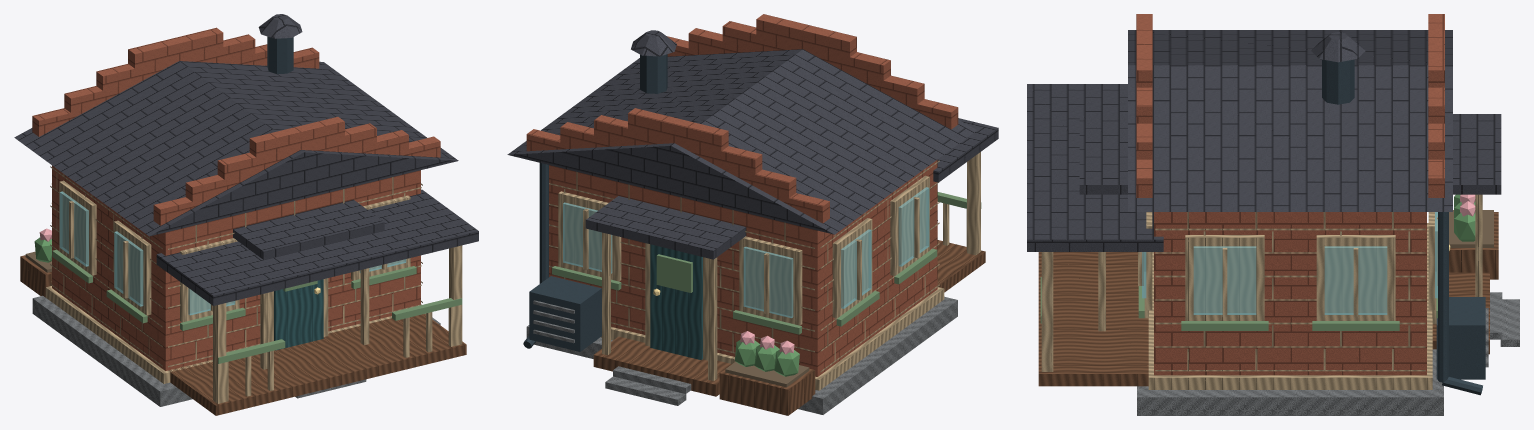
Rendered from house_townhouse_lv1_porch.glb.
3 views of the same model, side by side, from view 1: azimuth 30°, elevation 25°; view 2: azimuth 150°, elevation 25°; view 3: azimuth 270°, elevation 25° (orthographic). The views are drawn at different scales.
Visible parts, largest first — view 1: gable_roof, walls, porch_roof, porch_floor, front_porch_canopy, foundation, front_door, stepped_gable.002, left_window_frame.001, left_window_frame, stepped_gable.006, stepped_gable.007 (+25 smaller); view 2: gable_roof, walls, back_porch_canopy, foundation, back_window_frame, back_door, back_ac_unit, back_deck, back_window_frame.001, back_garden_bed, back_window_glass, stepped_gable.002 (+33 smaller); view 3: gable_roof, walls, porch_roof, porch_floor, foundation, right_window_frame, right_window_frame.001, floor_trim, right_window_glass, right_window_glass.001, back_porch_canopy, front_porch_canopy (+28 smaller).
Boxes of the visible parts, box(x1,y1,x2,y2) form: gable_roof: box(14, 61, 458, 236); walls: box(52, 165, 420, 370); porch_roof: box(156, 189, 478, 305); porch_floor: box(168, 314, 466, 415); front_porch_canopy: box(233, 199, 384, 259); foundation: box(32, 295, 440, 406); front_door: box(274, 279, 323, 350); stepped_gable.002: box(217, 123, 376, 179); left_window_frame.001: box(59, 180, 96, 275); left_window_frame: box(114, 220, 151, 315); stepped_gable.006: box(96, 34, 255, 91); stepped_gable.007: box(128, 27, 223, 70); gable_roof: box(507, 49, 977, 234); walls: box(549, 159, 937, 376); back_porch_canopy: box(585, 196, 746, 259); foundation: box(526, 296, 957, 414); back_window_frame: box(739, 236, 802, 325); back_door: box(650, 244, 702, 359); back_ac_unit: box(529, 276, 601, 351); back_deck: box(593, 336, 731, 396); back_window_frame.001: box(558, 191, 621, 281); back_garden_bed: box(719, 362, 815, 415); back_window_glass: box(743, 246, 793, 318); stepped_gable.002: box(722, 21, 890, 82); gable_roof: box(1128, 30, 1452, 211); walls: box(1154, 212, 1426, 375); porch_roof: box(1027, 84, 1163, 251); porch_floor: box(1038, 252, 1148, 386); foundation: box(1137, 349, 1443, 415); right_window_frame: box(1185, 235, 1264, 320); right_window_frame.001: box(1316, 235, 1395, 320); floor_trim: box(1148, 223, 1432, 389); right_window_glass: box(1193, 246, 1256, 314); right_window_glass.001: box(1324, 246, 1387, 314); back_porch_canopy: box(1453, 114, 1501, 194); front_porch_canopy: box(1079, 114, 1127, 194).
Size of the model in its own units: 3.15 by 2.71 by 3.61.
13 materials, 7 textured.
